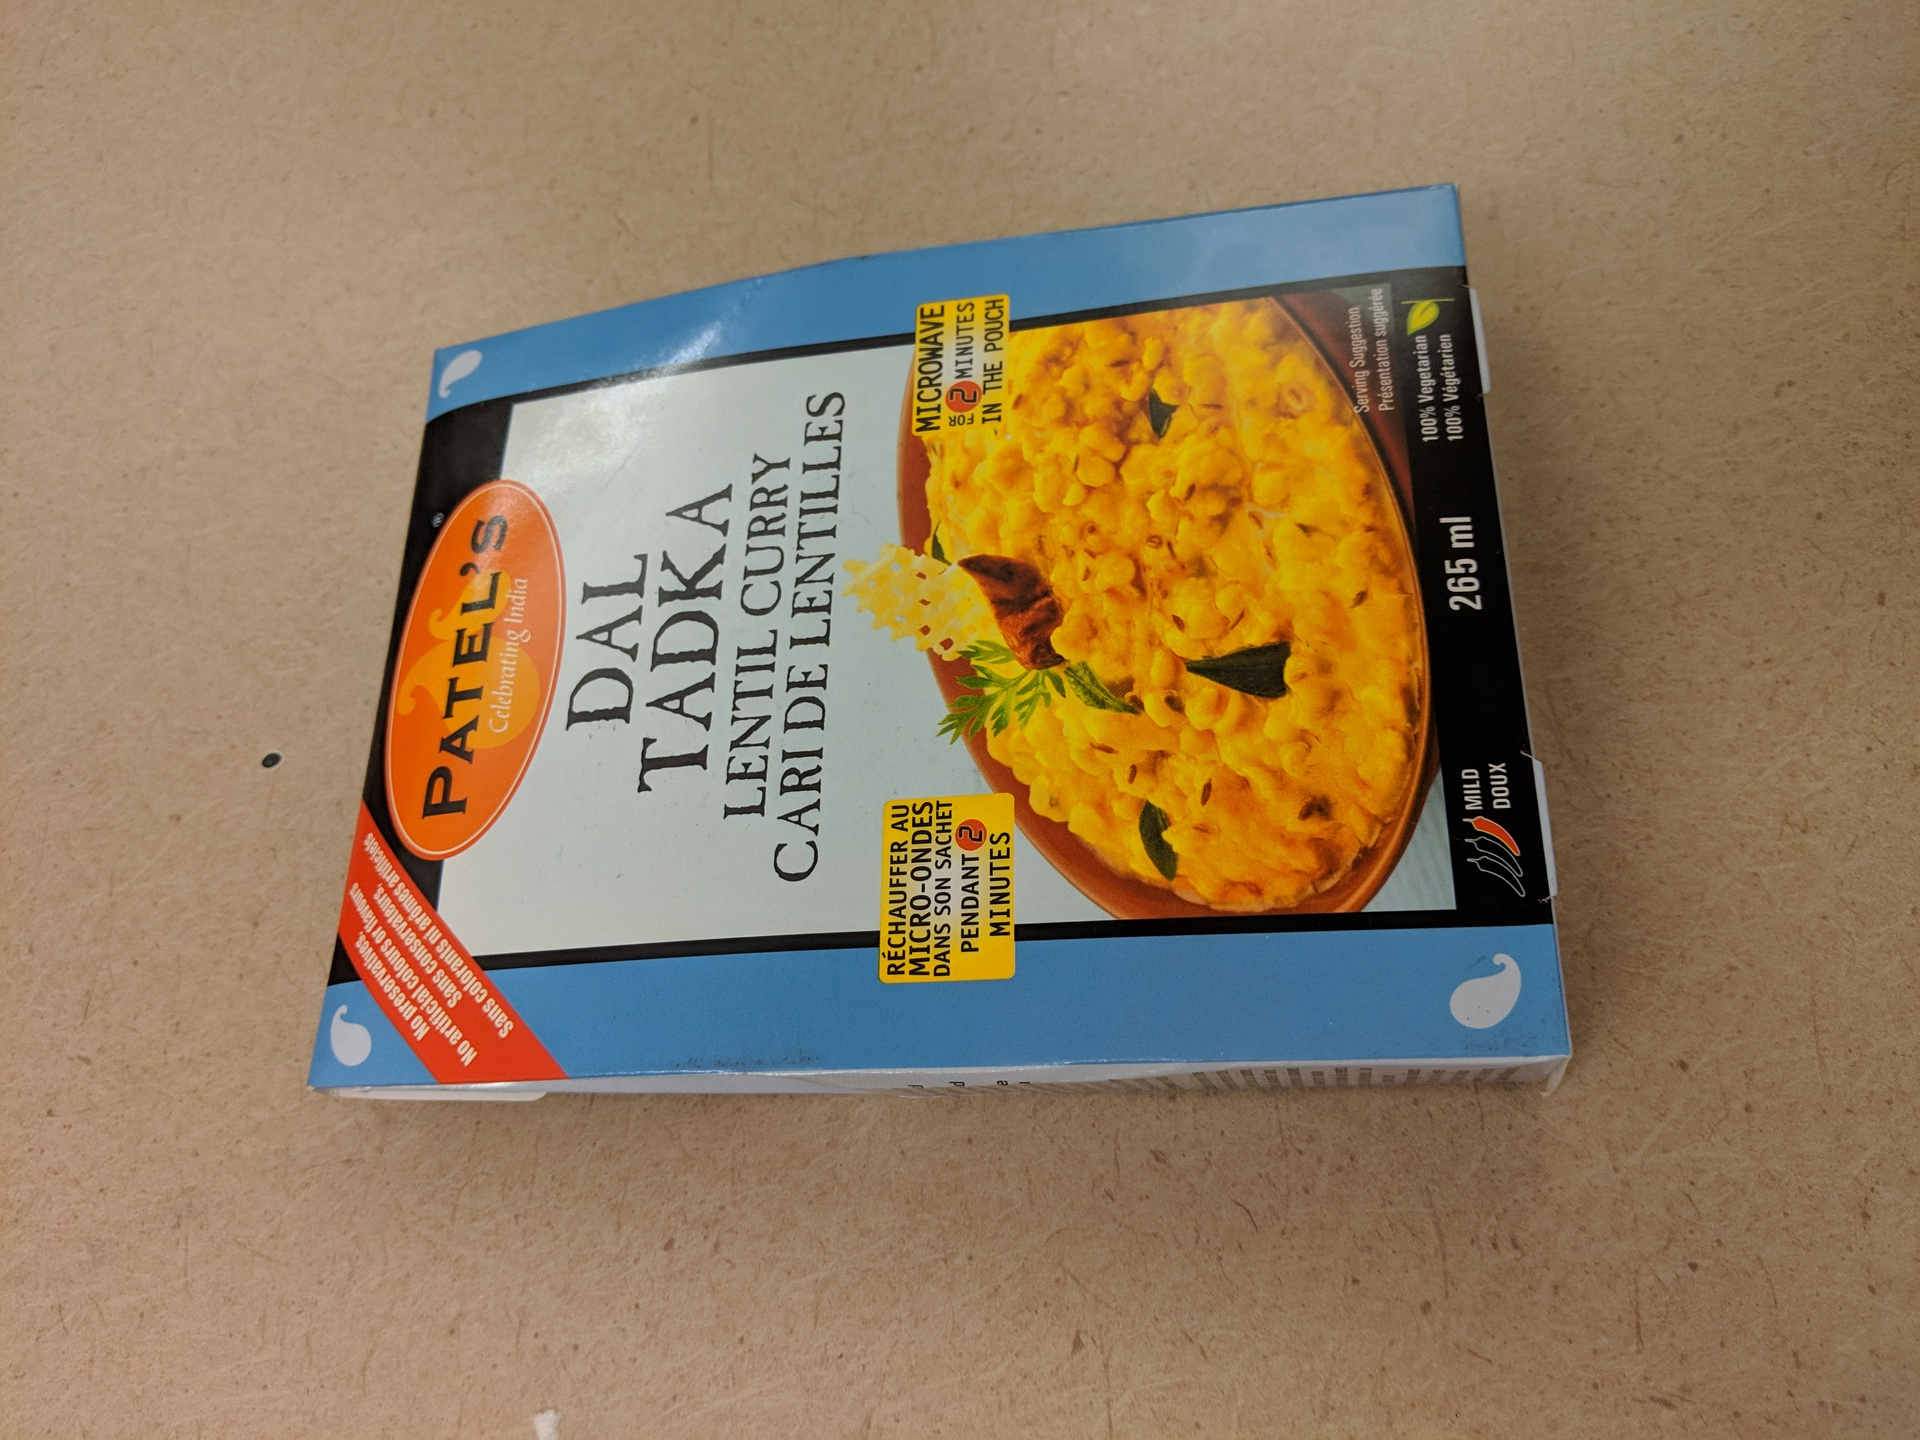patels_dal_tadka_lentil_curry: (336, 175, 1568, 1137)
